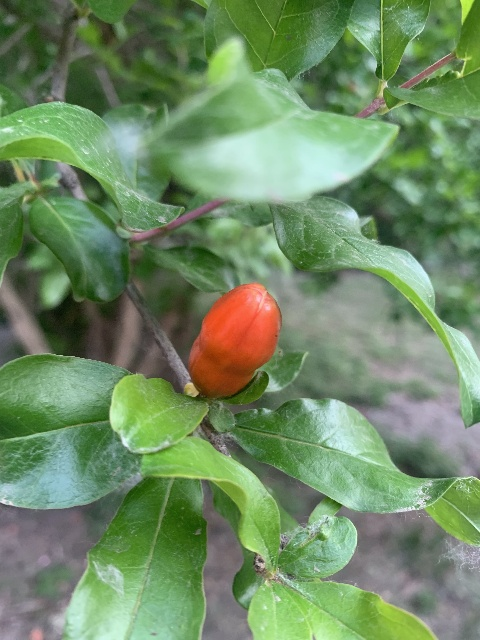bud: (188, 282, 282, 399)
